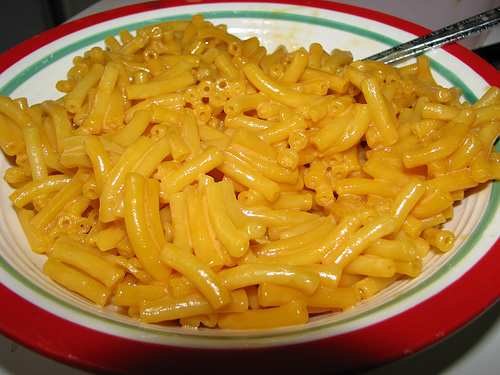macncheese: (4, 19, 498, 339)
